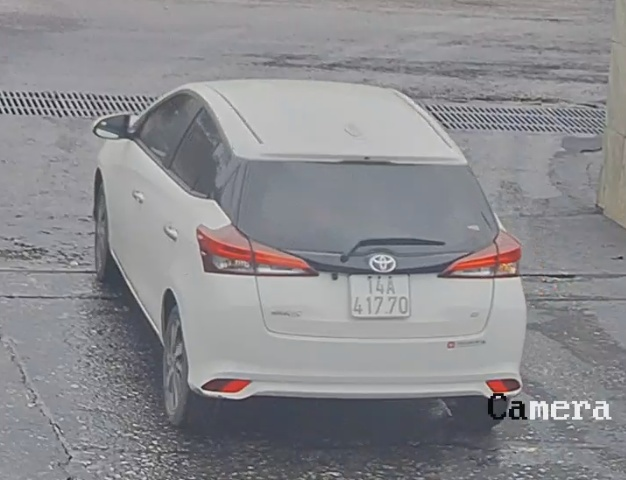vehicle plate: (345, 264, 412, 319)
